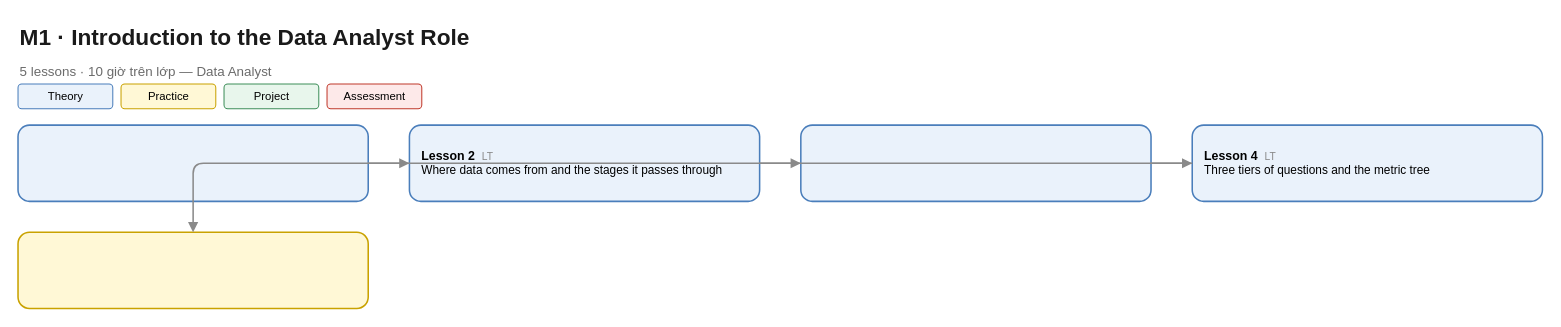
This 1561x327 diagram has some shape labels left out. The box of each missing label's shape, as (x1, y1, x2, y2) in pixels:
Lesson 1 LT What a Data Analyst actually does all day: (17, 124, 369, 202)
Lesson 3 LT Entities, attributes, records and grain: (800, 124, 1151, 202)
Lesson 5 TH From a vague request to an answerable question: (17, 231, 369, 309)
